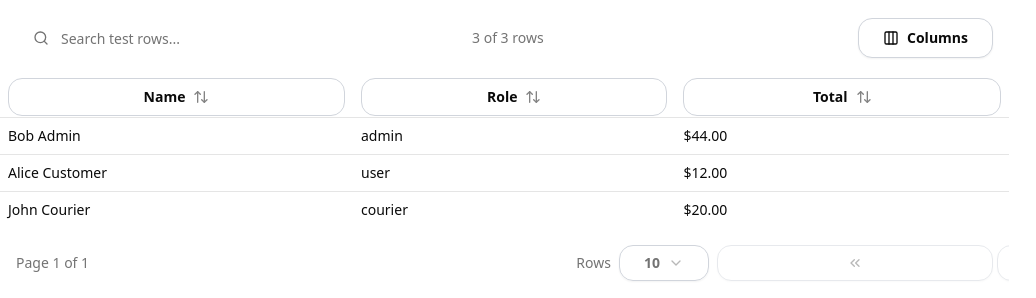
Scenario: TanStackDataTable › filters rows with global search
The image size is (1036, 298).
Type "courier" into the field with placeholder "Search test rows..." at (248, 38), box x1=49 y1=17 x2=447 y2=59
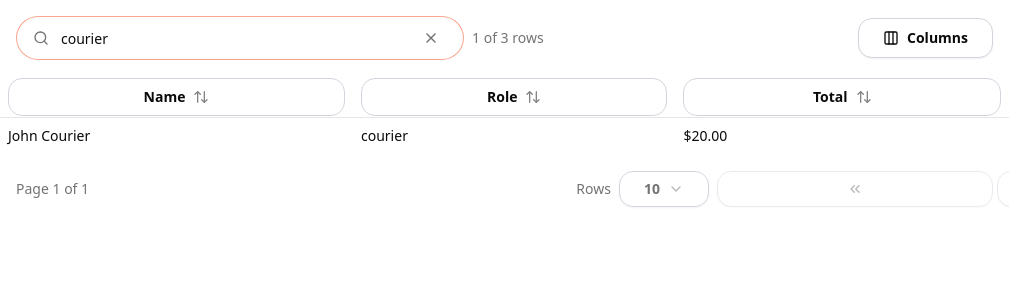
Expected: the text "John Courier" is shown, x1=0 y1=117 x2=353 y2=154
Expected: the text "Alice Customer" is gone
Expected: the text "1 of 3 rows" is shown, x1=472 y1=28 x2=544 y2=48
